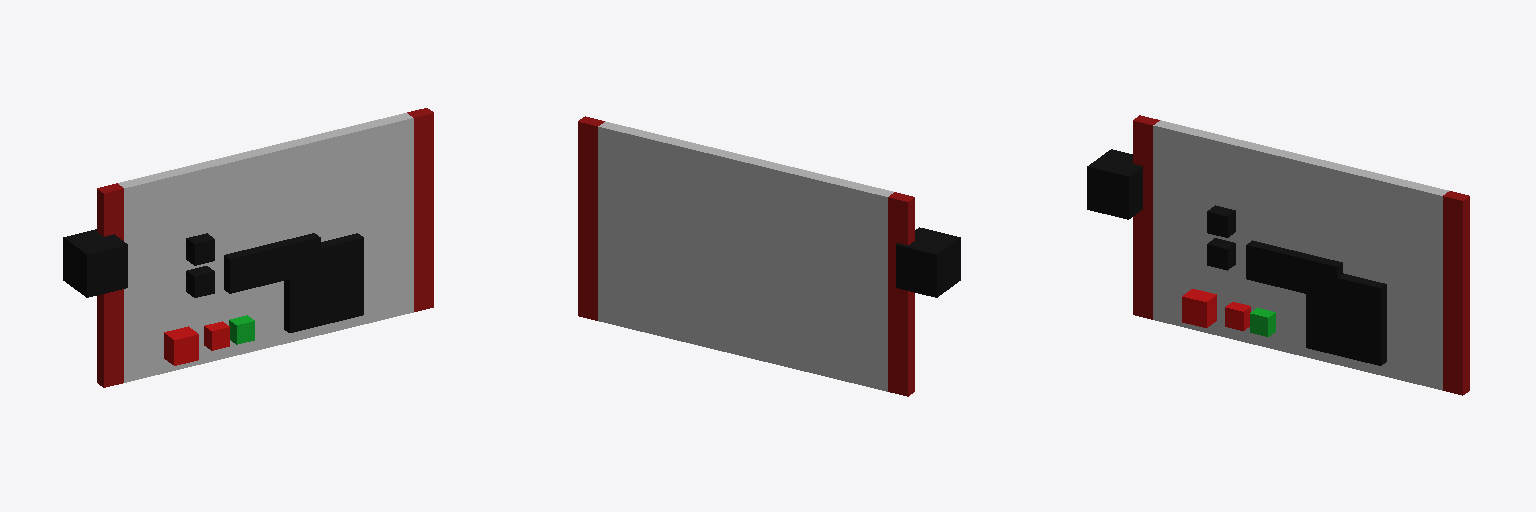
File: Mikron_HSM400U_ControlPanel_Proxy.obj
3 renders of one model, left to right at view 1: azimuth 30°, elevation 25°; view 2: azimuth 150°, elevation 25°; view 3: azimuth 330°, elevation 25°, orthographic.
Visible parts, largest first — view 1: Panel, Axis_Jog_Cluster, Side_Right, Side_Left, Function_Keys, MPG_Handwheel, Emergency_Stop, Feed_Knob, Mode_Knob, Cycle_Stop, Cycle_Start; view 2: Panel, Side_Left, Side_Right, MPG_Handwheel; view 3: Panel, Axis_Jog_Cluster, Side_Right, Side_Left, MPG_Handwheel, Function_Keys, Emergency_Stop, Feed_Knob, Mode_Knob, Cycle_Start, Cycle_Stop.
Part boxes in pixels (bbox=[...]): Panel: bbox=[118, 113, 413, 382]; Axis_Jog_Cluster: bbox=[284, 233, 363, 332]; Side_Right: bbox=[407, 108, 433, 311]; Side_Left: bbox=[97, 183, 123, 387]; Function_Keys: bbox=[224, 233, 320, 293]; MPG_Handwheel: bbox=[63, 229, 127, 297]; Emergency_Stop: bbox=[164, 326, 198, 365]; Feed_Knob: bbox=[186, 233, 214, 265]; Mode_Knob: bbox=[186, 266, 214, 297]; Cycle_Stop: bbox=[204, 321, 229, 350]; Cycle_Start: bbox=[229, 315, 254, 344]; Panel: bbox=[598, 121, 893, 391]; Side_Left: bbox=[888, 192, 914, 396]; Side_Right: bbox=[578, 116, 604, 320]; MPG_Handwheel: bbox=[896, 227, 960, 297]; Panel: bbox=[1153, 120, 1448, 390]; Axis_Jog_Cluster: bbox=[1306, 270, 1386, 365]; Side_Right: bbox=[1443, 191, 1469, 395]; Side_Left: bbox=[1133, 115, 1159, 319]; MPG_Handwheel: bbox=[1087, 149, 1142, 219]; Function_Keys: bbox=[1246, 240, 1342, 293]; Emergency_Stop: bbox=[1182, 289, 1216, 327]; Feed_Knob: bbox=[1207, 205, 1235, 237]; Mode_Knob: bbox=[1207, 238, 1235, 270]; Cycle_Start: bbox=[1250, 308, 1275, 336]; Cycle_Stop: bbox=[1225, 302, 1250, 330].
Bounding box in the file's own units: 1.75 × 0.9 × 0.2.